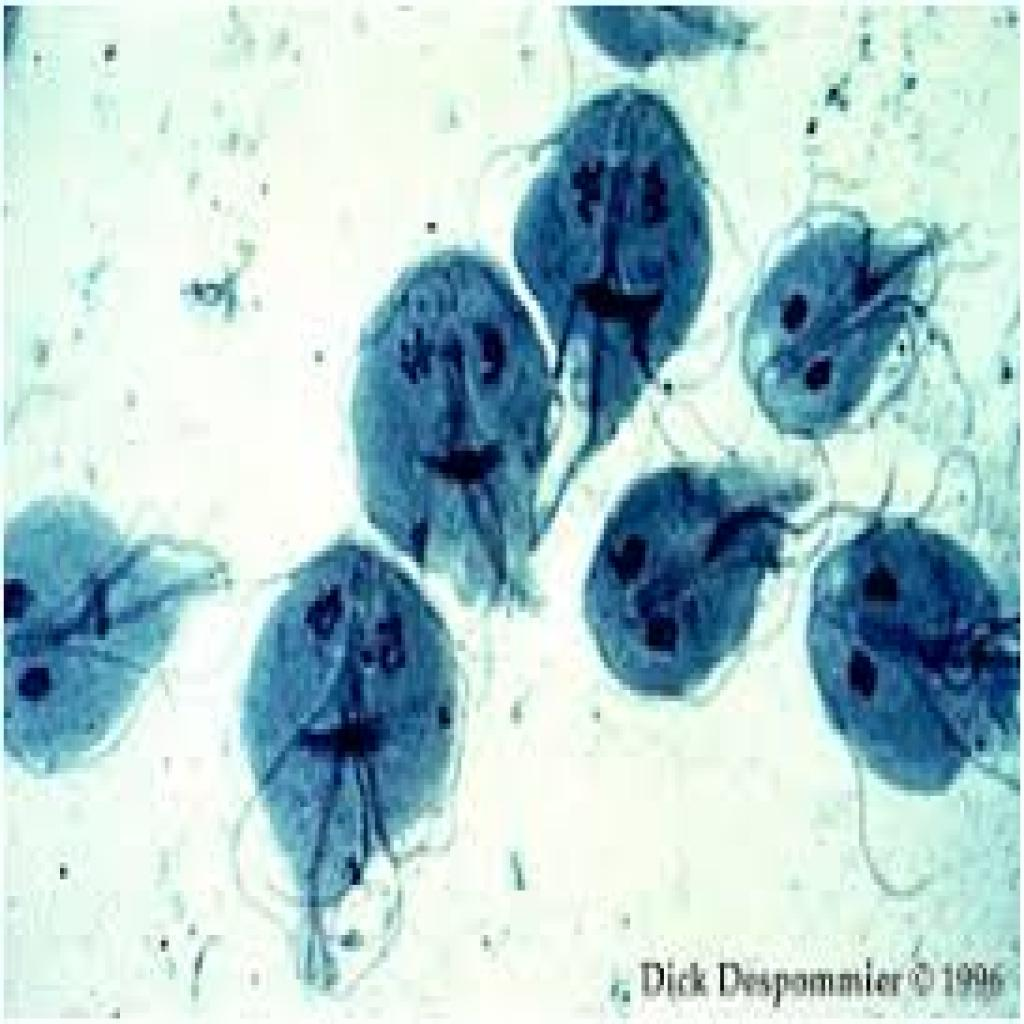Giardia: (233, 534, 465, 991), (503, 72, 720, 456), (348, 234, 548, 612), (810, 512, 1024, 824), (0, 489, 221, 784), (582, 446, 810, 712), (735, 206, 945, 434)
